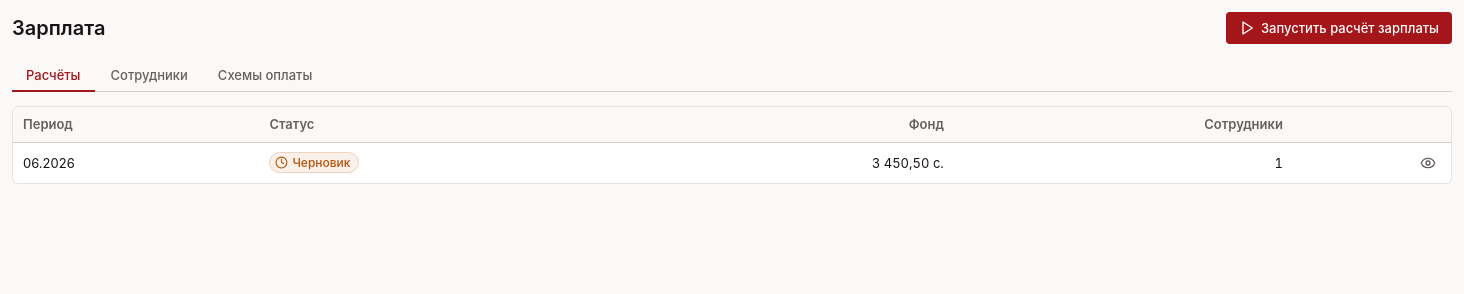
it: PayrollPage › 409 при утверждении показывает ErrorBanner «уже утверждён»
This screenshot has width=1464, height=294.
Click the button named "Просмотр".
click(1428, 163)  # box [1415, 150, 1441, 176]
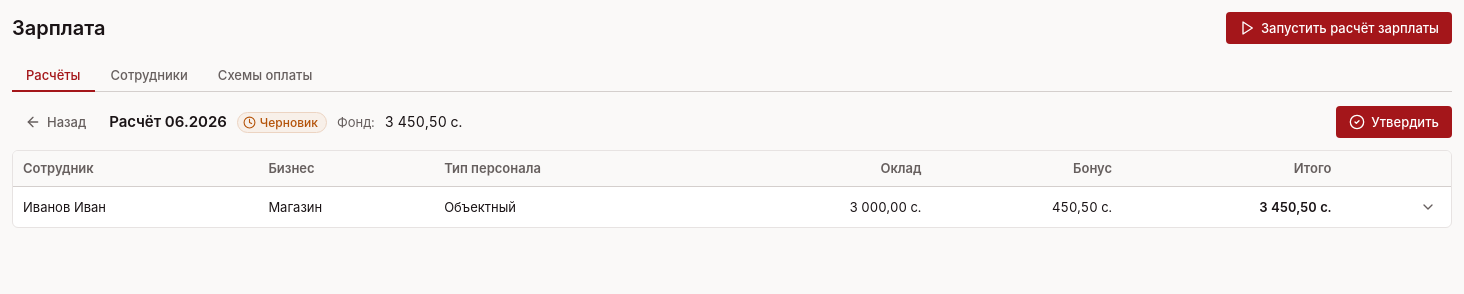
Click the button "Утвердить".
click(1394, 122)  # box [1336, 106, 1452, 138]
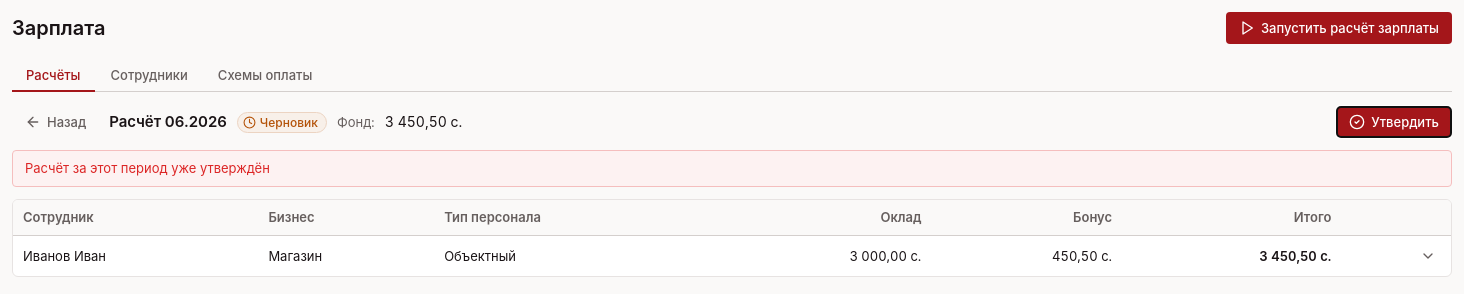
Now the message reads "Расчёт за этот период уже утверждён", box [25, 160, 270, 176]
